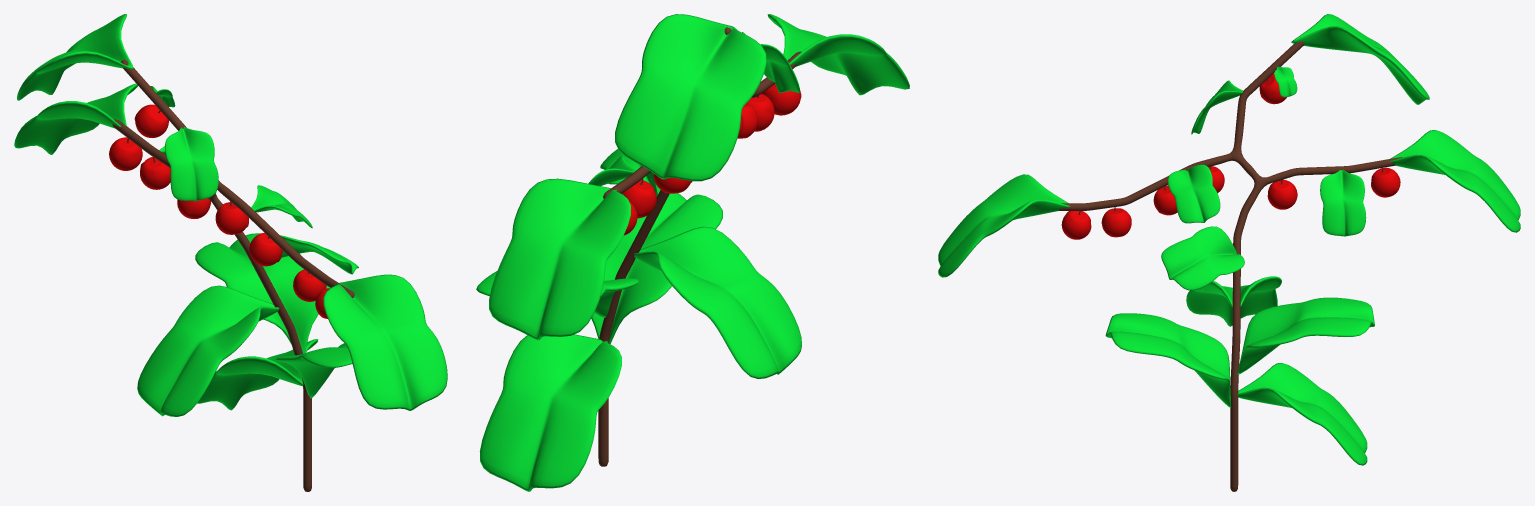
File: Tomates_Croissance_3.fbx
The picture shows the model from 3 angles, left to right: view 1: azimuth 30°, elevation 25°; view 2: azimuth 150°, elevation 25°; view 3: azimuth 270°, elevation 25°; orthographic projection. The views are drawn at different scales.
Parts seen in each view (by area): view 1: Plante.002, Plante.007, Plante, branche, Plante.001, Plante.003, Plante.009, Plante.006, Plante.005, Tomate.001, Tomate.007, Plante.008 (+5 smaller); view 2: Plante.003, Plante.001, Plante.006, Plante.007, Plante, Plante.002, branche, Plante.009, Tomate.005, Tomate.004, Plante.004, Tomate (+2 smaller); view 3: Plante, branche, Plante.006, Plante.002, Plante.001, Plante.008, Plante.003, Plante.007, Plante.004, Plante.005, Tomate, Tomate.001 (+3 smaller).
Part boxes in pixels (box(x1,y1,x2,y2)): Plante.002: box(323, 274, 447, 410); Plante.007: box(137, 285, 279, 416); Plante: box(195, 233, 352, 398); branche: box(112, 59, 354, 491); Plante.001: box(14, 83, 137, 154); Plante.003: box(17, 14, 133, 100); Plante.009: box(165, 127, 218, 201); Plante.006: box(197, 339, 318, 410); Plante.005: box(251, 185, 312, 228); Tomate.001: box(109, 137, 142, 170); Tomate.007: box(134, 104, 168, 137); Plante.008: box(280, 235, 358, 274); Plante.003: box(615, 14, 766, 181); Plante.001: box(489, 178, 630, 340); Plante.006: box(479, 334, 621, 491); Plante.007: box(634, 226, 801, 378); Plante: box(476, 187, 722, 344); Plante.002: box(767, 14, 909, 95); branche: box(598, 27, 801, 466); Plante.009: box(742, 32, 799, 92); Tomate.005: box(621, 178, 656, 218); Tomate.004: box(762, 84, 801, 115); Plante.004: box(588, 155, 635, 185); Tomate: box(747, 94, 774, 131); Plante: box(1105, 297, 1374, 407); branche: box(1058, 41, 1402, 491); Plante.006: box(1237, 363, 1367, 465); Plante.002: box(938, 174, 1070, 277); Plante.001: box(1390, 130, 1520, 232); Plante.008: box(1161, 226, 1244, 290); Plante.003: box(1291, 14, 1429, 104); Plante.007: box(1186, 276, 1281, 326); Plante.004: box(1320, 170, 1366, 236); Plante.005: box(1167, 164, 1220, 223); Tomate: box(1101, 207, 1131, 237); Tomate.001: box(1371, 167, 1400, 197).
Bounding box in the file's own units: 86.78 × 155 × 199.
